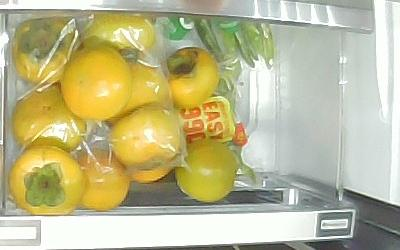persimmon: (61, 47, 131, 119), (9, 148, 83, 214), (175, 139, 238, 203), (162, 46, 221, 107)
persimmon_vinyl: (109, 102, 181, 168), (12, 86, 85, 151), (12, 17, 80, 83), (82, 13, 157, 63), (75, 148, 130, 211)
